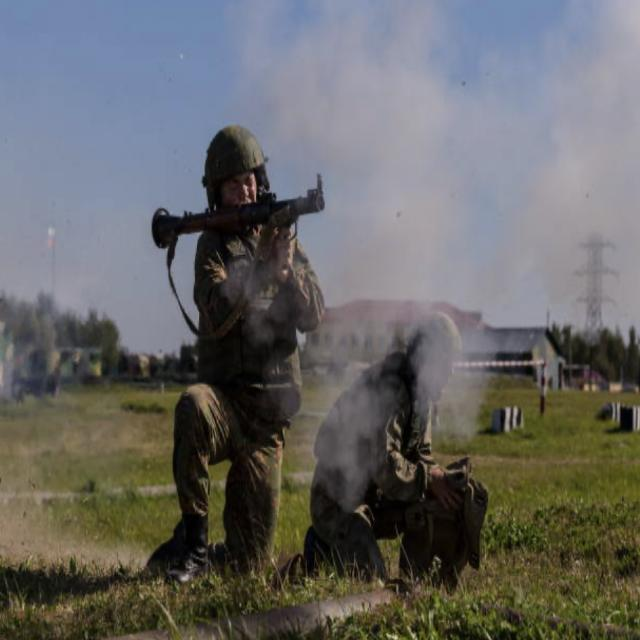bazooka: (137, 154, 338, 260)
